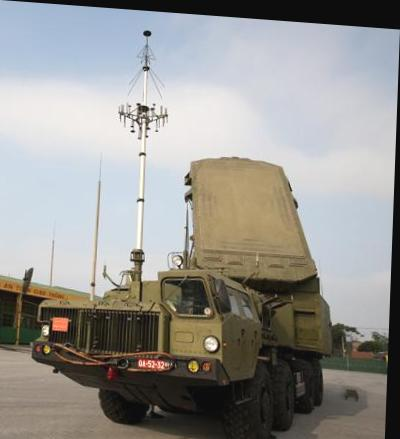License_Plate: (134, 356, 170, 375)
